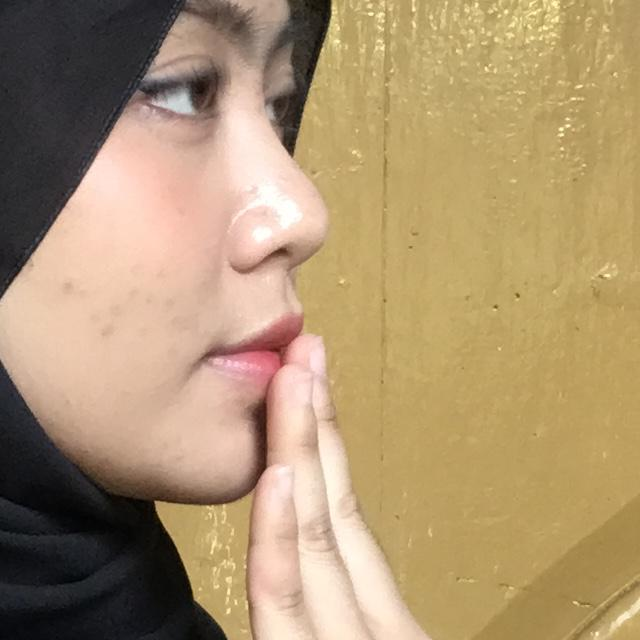ganteng: (150, 266, 490, 640)
